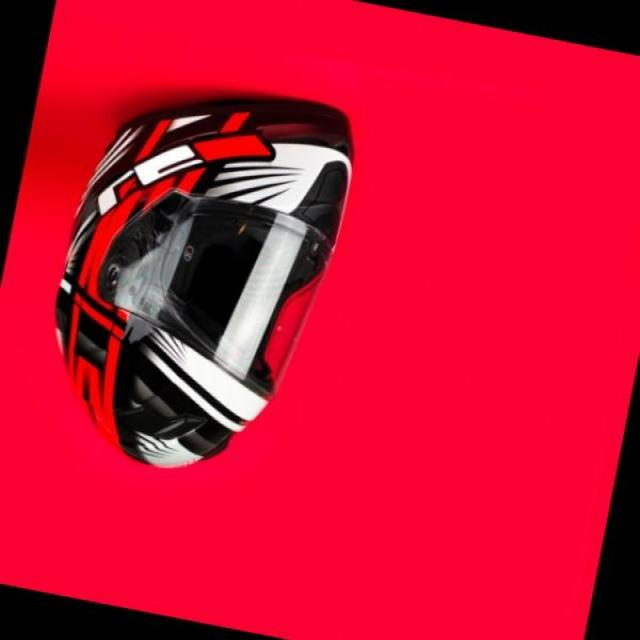Helmet: (64, 106, 339, 467)
